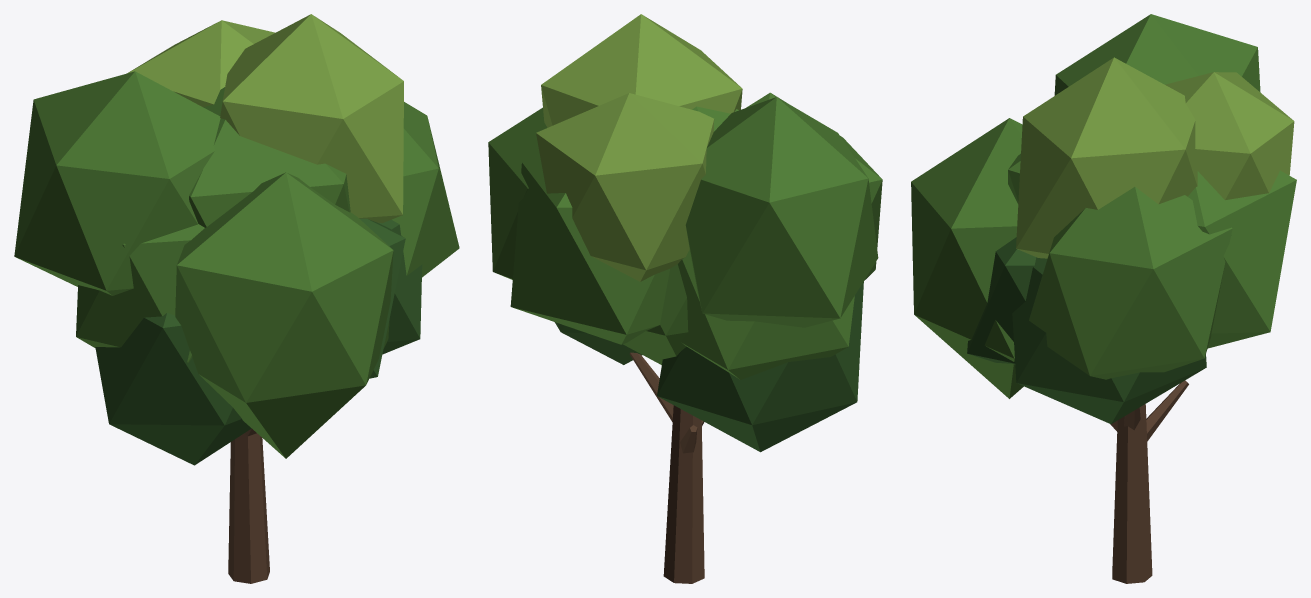
File: UM_Linde.fbx
3 renders of one model, left to right at view 1: azimuth 30°, elevation 25°; view 2: azimuth 150°, elevation 25°; view 3: azimuth 270°, elevation 25°, orthographic. The views are drawn at different scales.
Visible parts, largest first — view 1: UM_Linde; view 2: UM_Linde; view 3: UM_Linde.
Part boxes in pixels (x1,y1,x2,y2): UM_Linde: (14,14,459,583); UM_Linde: (488,14,882,583); UM_Linde: (911,14,1296,583).
Bounding box in the file's own units: 7.25 × 9.94 × 6.39.
